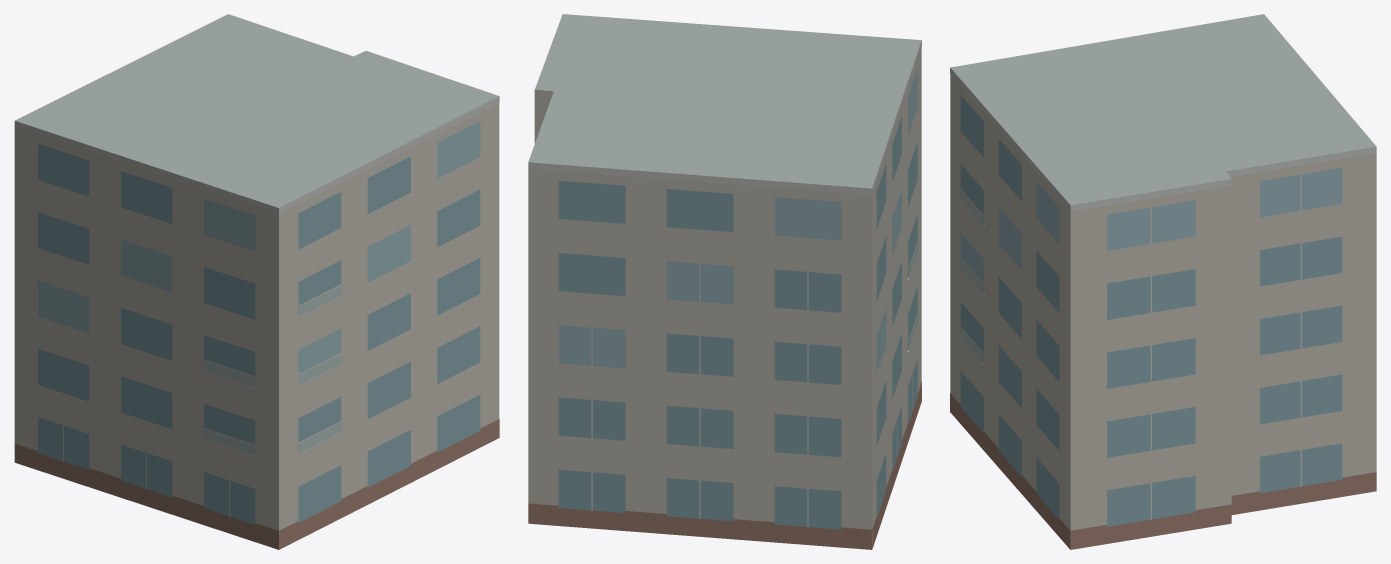
File: survey-upis-32972209.glb
3 views of the same model, side by side, from view 1: azimuth 30°, elevation 25°; view 2: azimuth 150°, elevation 25°; view 3: azimuth 270°, elevation 25° (orthographic). The views are drawn at different scales.
Visible parts, largest first — view 1: survey-upis-32972209.tmp; view 2: survey-upis-32972209.tmp; view 3: survey-upis-32972209.tmp.
Part boxes in pixels (<box>): survey-upis-32972209.tmp: <box>14,14,499,549</box>; survey-upis-32972209.tmp: <box>528,14,921,549</box>; survey-upis-32972209.tmp: <box>950,14,1376,549</box>.
Bounding box in the file's own units: 16.32 × 13.7 × 15.37.
